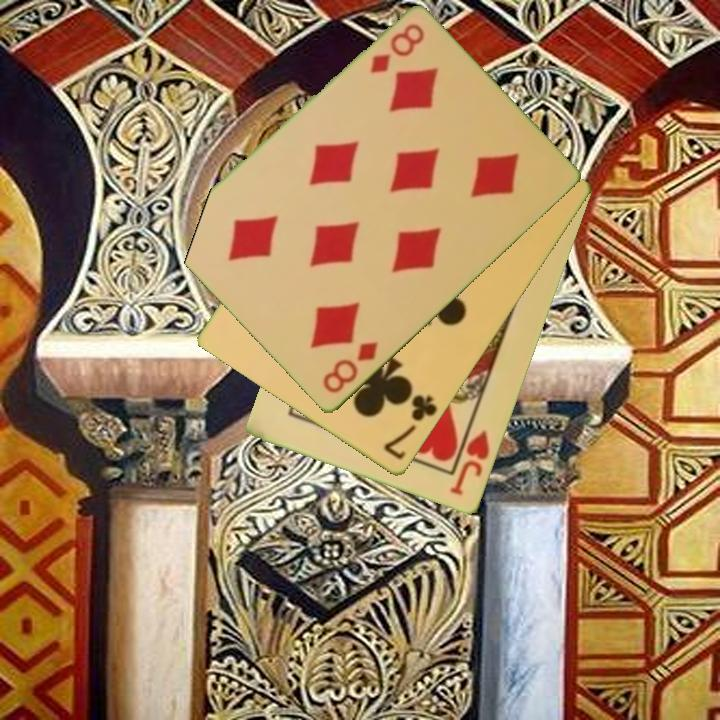7c: (380, 391, 441, 463)
8d: (319, 338, 381, 397), (366, 21, 428, 77)
Jh: (446, 417, 493, 499)
